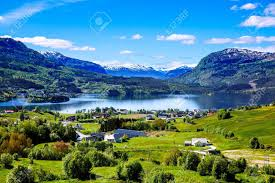field: (4, 113, 269, 183)
lake: (24, 91, 263, 111)
mountain: (4, 42, 107, 90), (172, 42, 275, 90)
sky: (3, 1, 275, 51)
